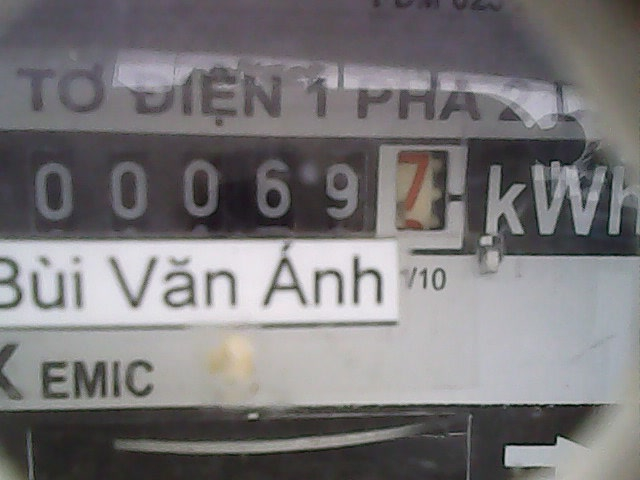phy_plate: (18, 126, 475, 259)
